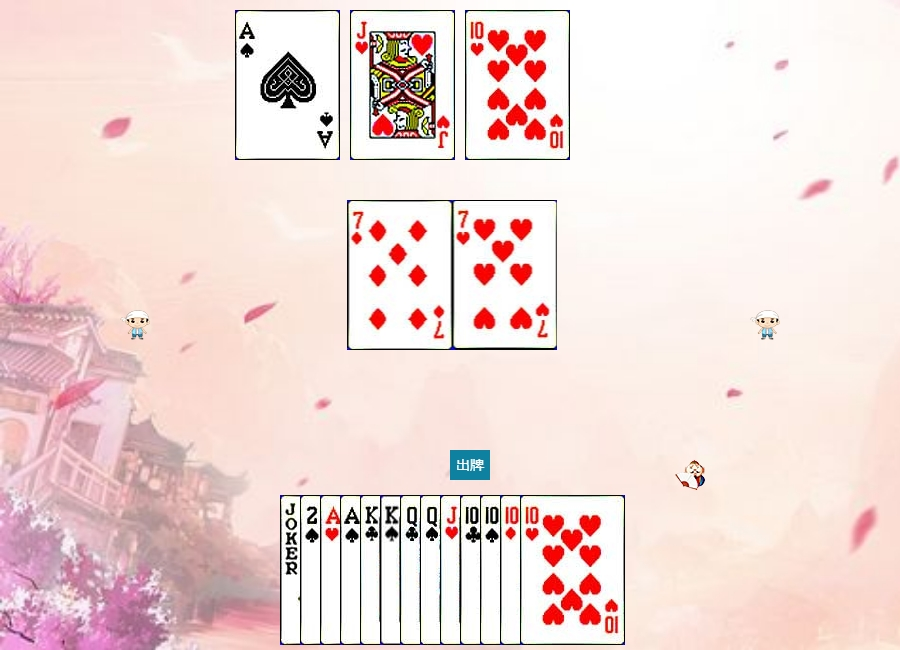10~1: (500, 495, 605, 645)
10~2: (460, 495, 565, 645)
10~3: (465, 10, 570, 160), (520, 495, 625, 645)
10~4: (480, 495, 585, 645)
11~3: (350, 10, 455, 160), (440, 495, 545, 645)
12~2: (400, 495, 505, 645)
12~4: (420, 495, 525, 645)
13~2: (360, 495, 465, 645)
13~4: (380, 495, 485, 645)
14~3: (320, 495, 425, 645)
14~4: (235, 10, 340, 160), (340, 495, 445, 645)
15~4: (300, 495, 405, 645)
17~3: (280, 495, 385, 645)
7~1: (348, 200, 453, 350)
7~3: (453, 200, 558, 350)
